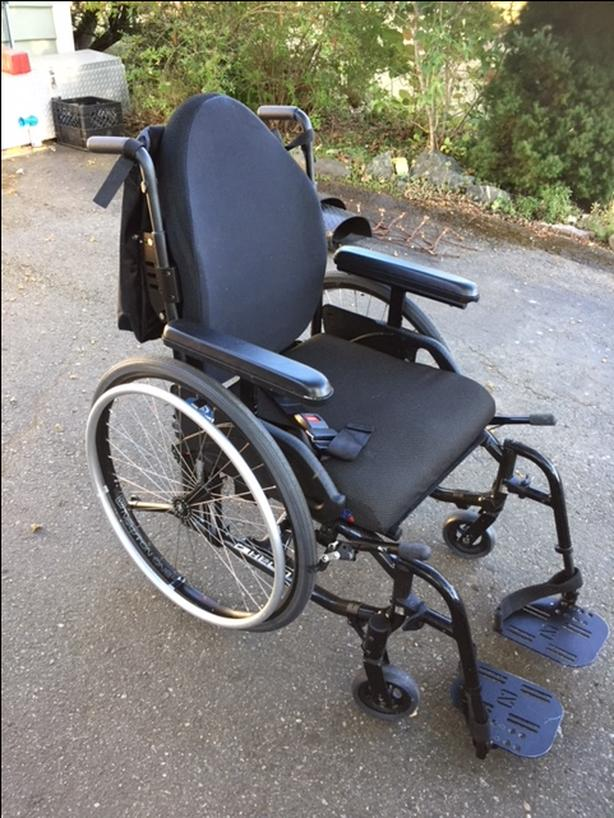wheelchair: (65, 104, 597, 762)
